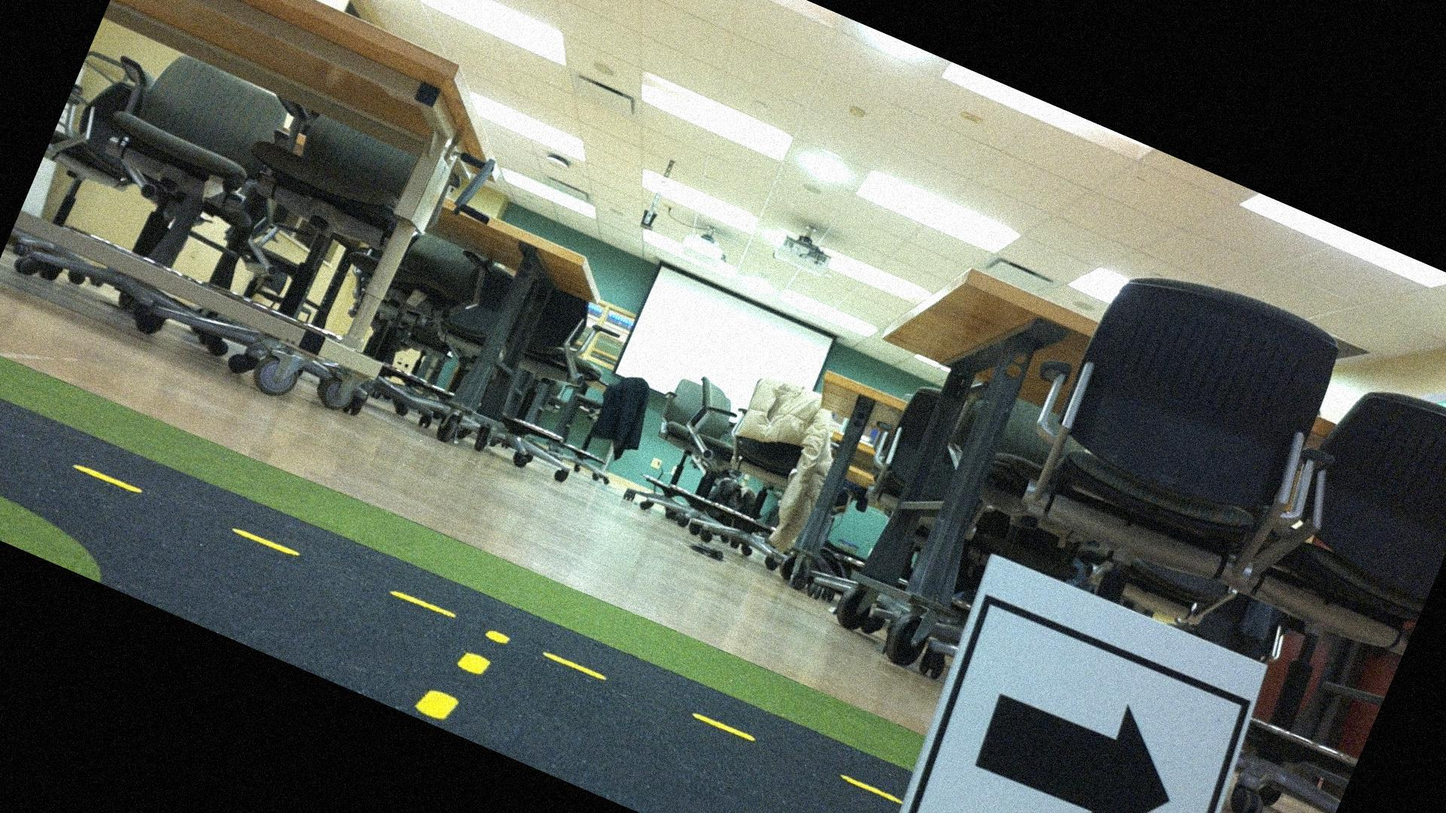turnleft: (883, 565, 1264, 812)
yellowline: (0, 387, 901, 812), (410, 609, 513, 734)
